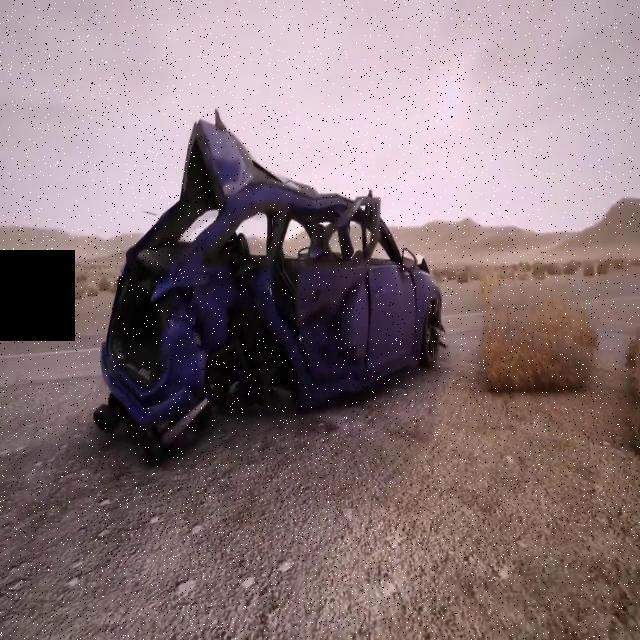severe: (86, 107, 448, 466)
